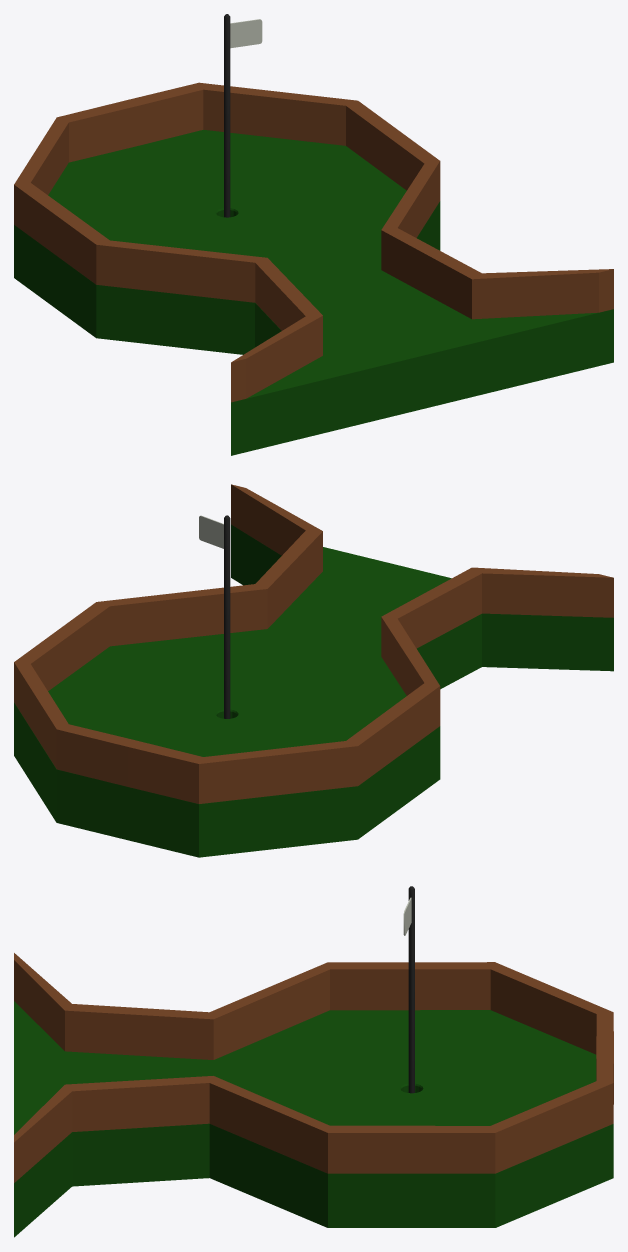
The model's file is minigolf_hole.glb.
3 renders of one model, top to bottom at view 1: azimuth 30°, elevation 25°; view 2: azimuth 150°, elevation 25°; view 3: azimuth 270°, elevation 25°, orthographic.
Parts seen in each view (by area): view 1: Goal, Side.005, Flag; view 2: Goal, Side.005, Flag; view 3: Goal, Side.005, Flag.
Boxes of the visible parts, x1,y1,x2,y2 form: Goal: [14, 129, 613, 455]; Side.005: [14, 82, 613, 402]; Flag: [224, 14, 262, 217]; Goal: [14, 524, 613, 857]; Side.005: [14, 484, 613, 803]; Flag: [199, 515, 230, 718]; Goal: [14, 1001, 613, 1237]; Side.005: [14, 953, 613, 1182]; Flag: [403, 886, 414, 1093].
Size of the model in its own units: 1.5 by 0.9412 by 2.
